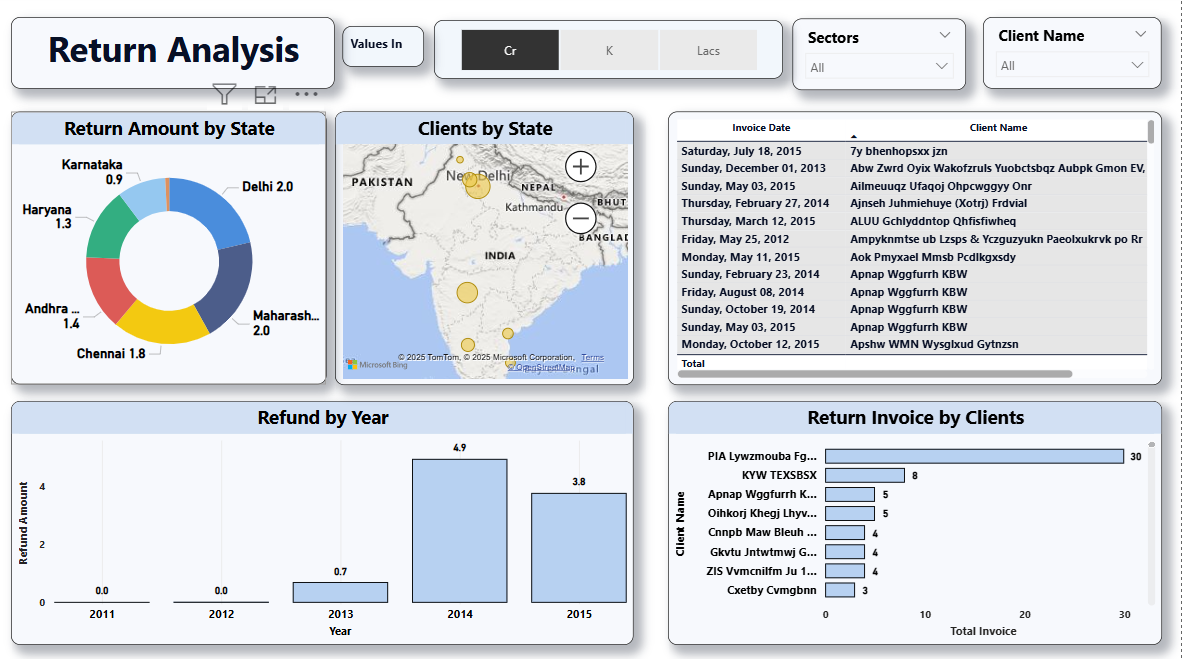

The dashboard page shown, as its layout file describes it:
{"tool":"powerbi","page":{"name":"Return","canvas":[1280,720],"ordinal":4},"visuals":[{"type":"donutChart","title":"Return Amount by State","fields":{"Category":["Credit Note.State"],"Y":["Currency_Conversion.CurrencySwitchCreditNote"]},"box":[15.8,128.1,340.4,294.7],"z":0},{"type":"textbox","box":[16.1,26.3,349.3,77.5],"z":1000},{"type":"tableEx","fields":{"Values":["Credit Note.Invoice Date","Credit Note.Client Name","Currency_Conversion.CurrencySwitchCreditNote"]},"box":[724.9,128.6,533.4,295.2],"z":2000},{"type":"columnChart","title":"Refund by Year","fields":{"Category":["Calendar.Year"],"Y":["Currency_Conversion.CurrencySwitchCreditNote"]},"box":[15.8,440.4,671.9,263.2],"z":3000},{"type":"map","title":"Clients by State","fields":{"Category":["Credit Note.State"],"Size":["CountNonNull(Credit Note.Client Name)"]},"box":[365.4,128.6,323,295.2],"z":4000},{"type":"clusteredBarChart","title":"Return Invoice by Clients","fields":{"Category":["Credit Note.Client Name"],"Y":["CountNonNull(Credit Note.Invoice No.)"]},"box":[724.9,439.9,533.4,263.1],"z":5000},{"type":"slicer","fields":{"Values":["Credit Note.Client Name"]},"box":[1065.4,26.3,192.9,77.5],"z":6000},{"type":"slicer","fields":{"Values":["Outstanding Table.Sectors"]},"box":[860,26.8,187.4,77.2],"z":7000},{"type":"slicer","fields":{"Values":["Currency_Conversion.Currency"]},"box":[472.5,28.4,376.4,63],"z":8000},{"type":"textbox","box":[374.1,35.1,87.7,43.8],"z":9000}]}

Visuals, with their boxes in screenshot pixels (x1, y1, x2, y2), scaled from the page's 1280x720 canvas onto the 1182x659 screenshot:
"Return Amount by State" donutChart: select_region(15, 117, 329, 387)
textbox: select_region(15, 24, 337, 95)
tableEx - Credit Note.Invoice Date x Credit Note.Client Name: select_region(669, 118, 1162, 388)
"Refund by Year" columnChart: select_region(15, 403, 635, 644)
"Clients by State" map: select_region(337, 118, 636, 388)
"Return Invoice by Clients" clusteredBarChart: select_region(669, 403, 1162, 643)
slicer - Credit Note.Client Name: select_region(984, 24, 1162, 95)
slicer - Outstanding Table.Sectors: select_region(794, 25, 967, 95)
slicer - Currency_Conversion.Currency: select_region(436, 26, 784, 84)
textbox: select_region(345, 32, 426, 72)
